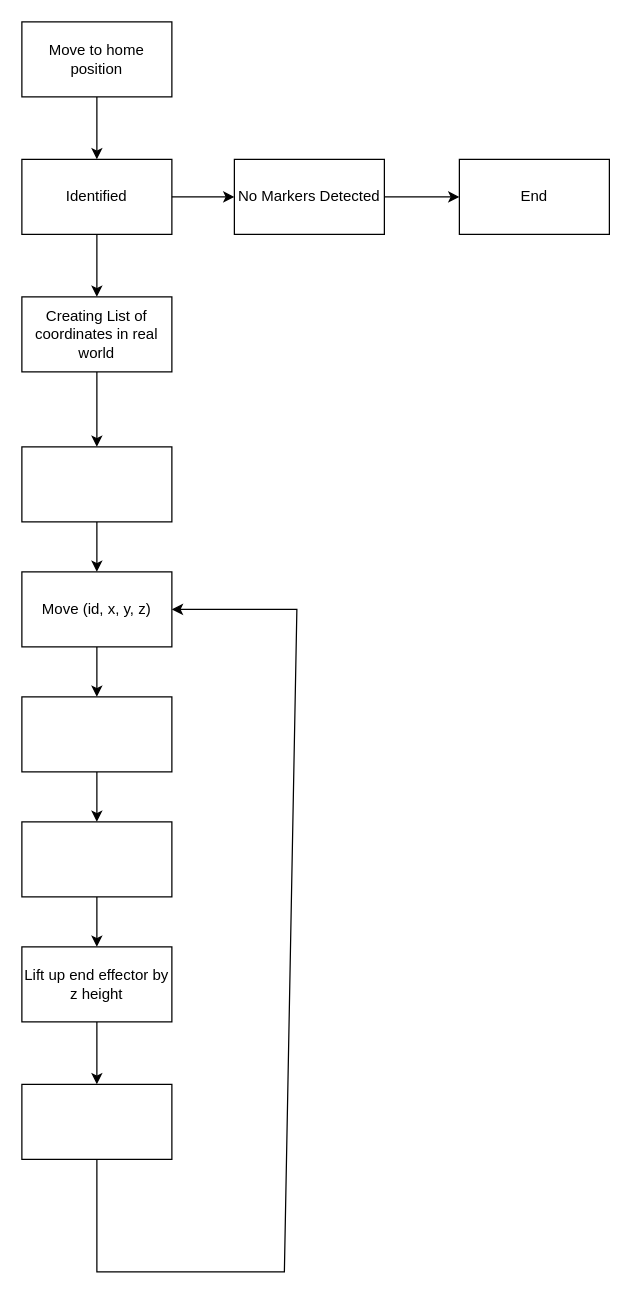
Image size: 631x1304. Some labels were removed from this diagram. Each missing label, with the box of its shape:
End Effector Detector: (21, 821, 172, 897)
Increase id value by 1: (21, 1083, 172, 1159)
Move down z height: (21, 696, 172, 772)
Sent to brain to process: (21, 446, 172, 522)
